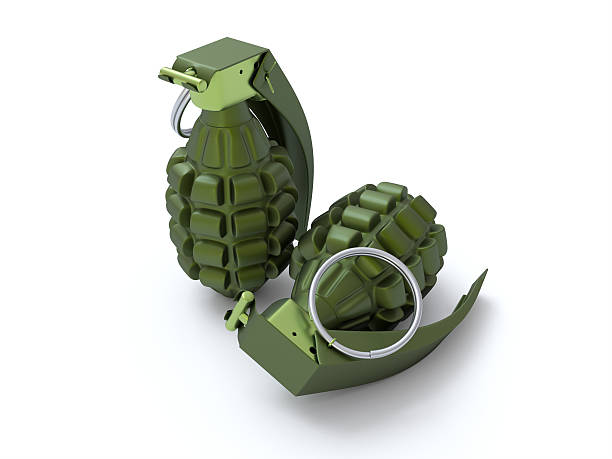e1: (271, 186, 489, 392), (160, 39, 309, 296)
